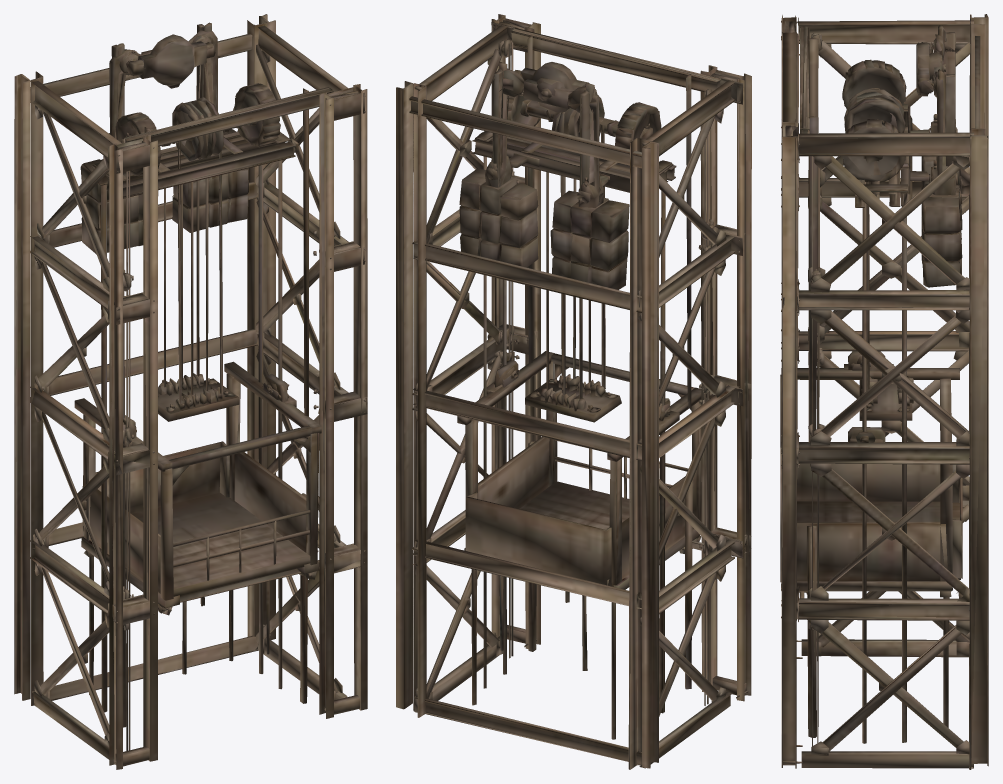
The model's file is elevator.glb.
3 views of the same model, side by side, from view 1: azimuth 30°, elevation 25°; view 2: azimuth 150°, elevation 25°; view 3: azimuth 270°, elevation 25° (orthographic).
Size of the model in its own units: 0.3842 by 0.9517 by 0.2696.
Materials: 1 (1 with a texture image).
